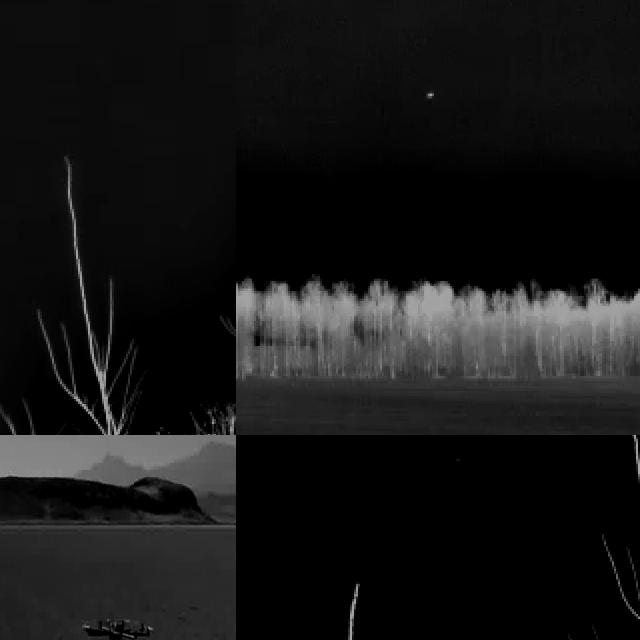0: (446, 450, 466, 476)
1: (413, 86, 439, 111)
drone: (83, 614, 154, 640)
